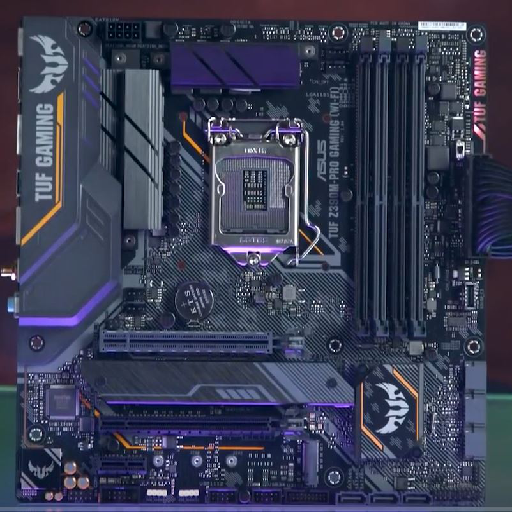CPU: (208, 128, 299, 268)
GPU: (97, 407, 312, 442), (95, 325, 311, 359)
MOTHERBOARD: (15, 12, 491, 509)
RAM: (355, 34, 429, 339)
SSD: (294, 440, 324, 491)
